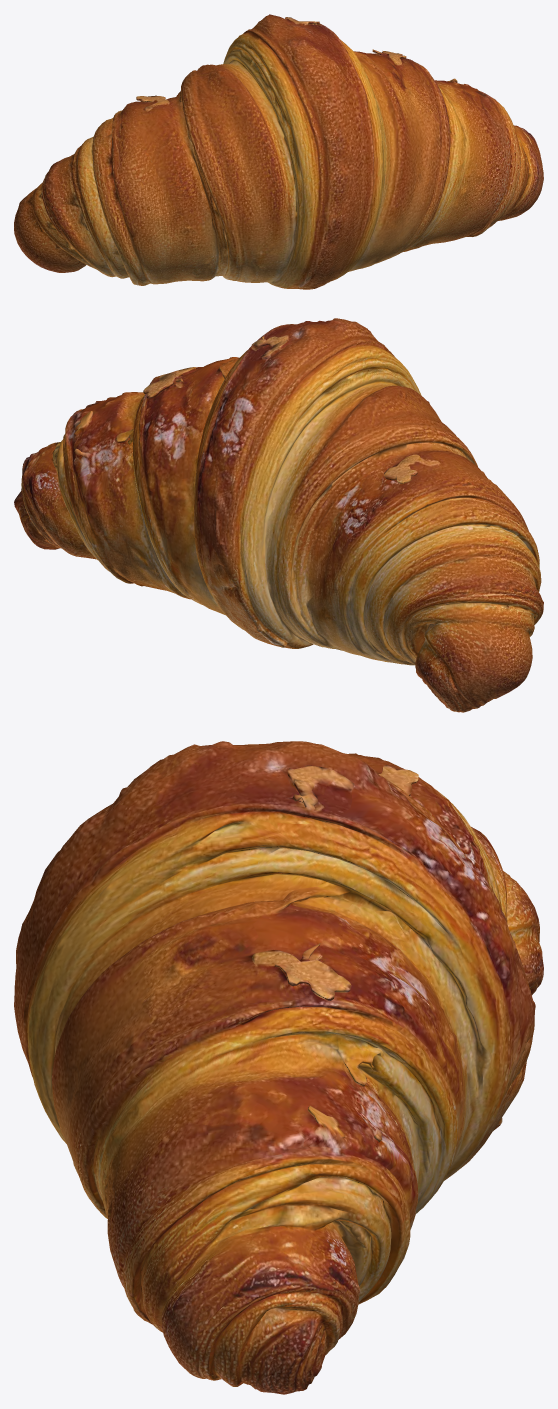
The model's file is croissant.glb.
The picture shows the model from 3 angles, top to bottom: view 1: azimuth 30°, elevation 25°; view 2: azimuth 150°, elevation 25°; view 3: azimuth 270°, elevation 25°; orthographic projection. The views are drawn at different scales.
Parts seen in each view (by area): view 1: tripo_node_bcf4c1e1-ac54-4b0a-af5a-99616164e222; view 2: tripo_node_bcf4c1e1-ac54-4b0a-af5a-99616164e222; view 3: tripo_node_bcf4c1e1-ac54-4b0a-af5a-99616164e222.
Boxes of the visible parts, x1=… form: tripo_node_bcf4c1e1-ac54-4b0a-af5a-99616164e222: x1=14, y1=14, x2=543, y2=289; tripo_node_bcf4c1e1-ac54-4b0a-af5a-99616164e222: x1=14, y1=318, x2=543, y2=712; tripo_node_bcf4c1e1-ac54-4b0a-af5a-99616164e222: x1=14, y1=741, x2=543, y2=1394.
Bounding box in the file's own units: 0.9795 × 0.4647 × 0.5045.
Materials: 1 (1 with a texture image).
